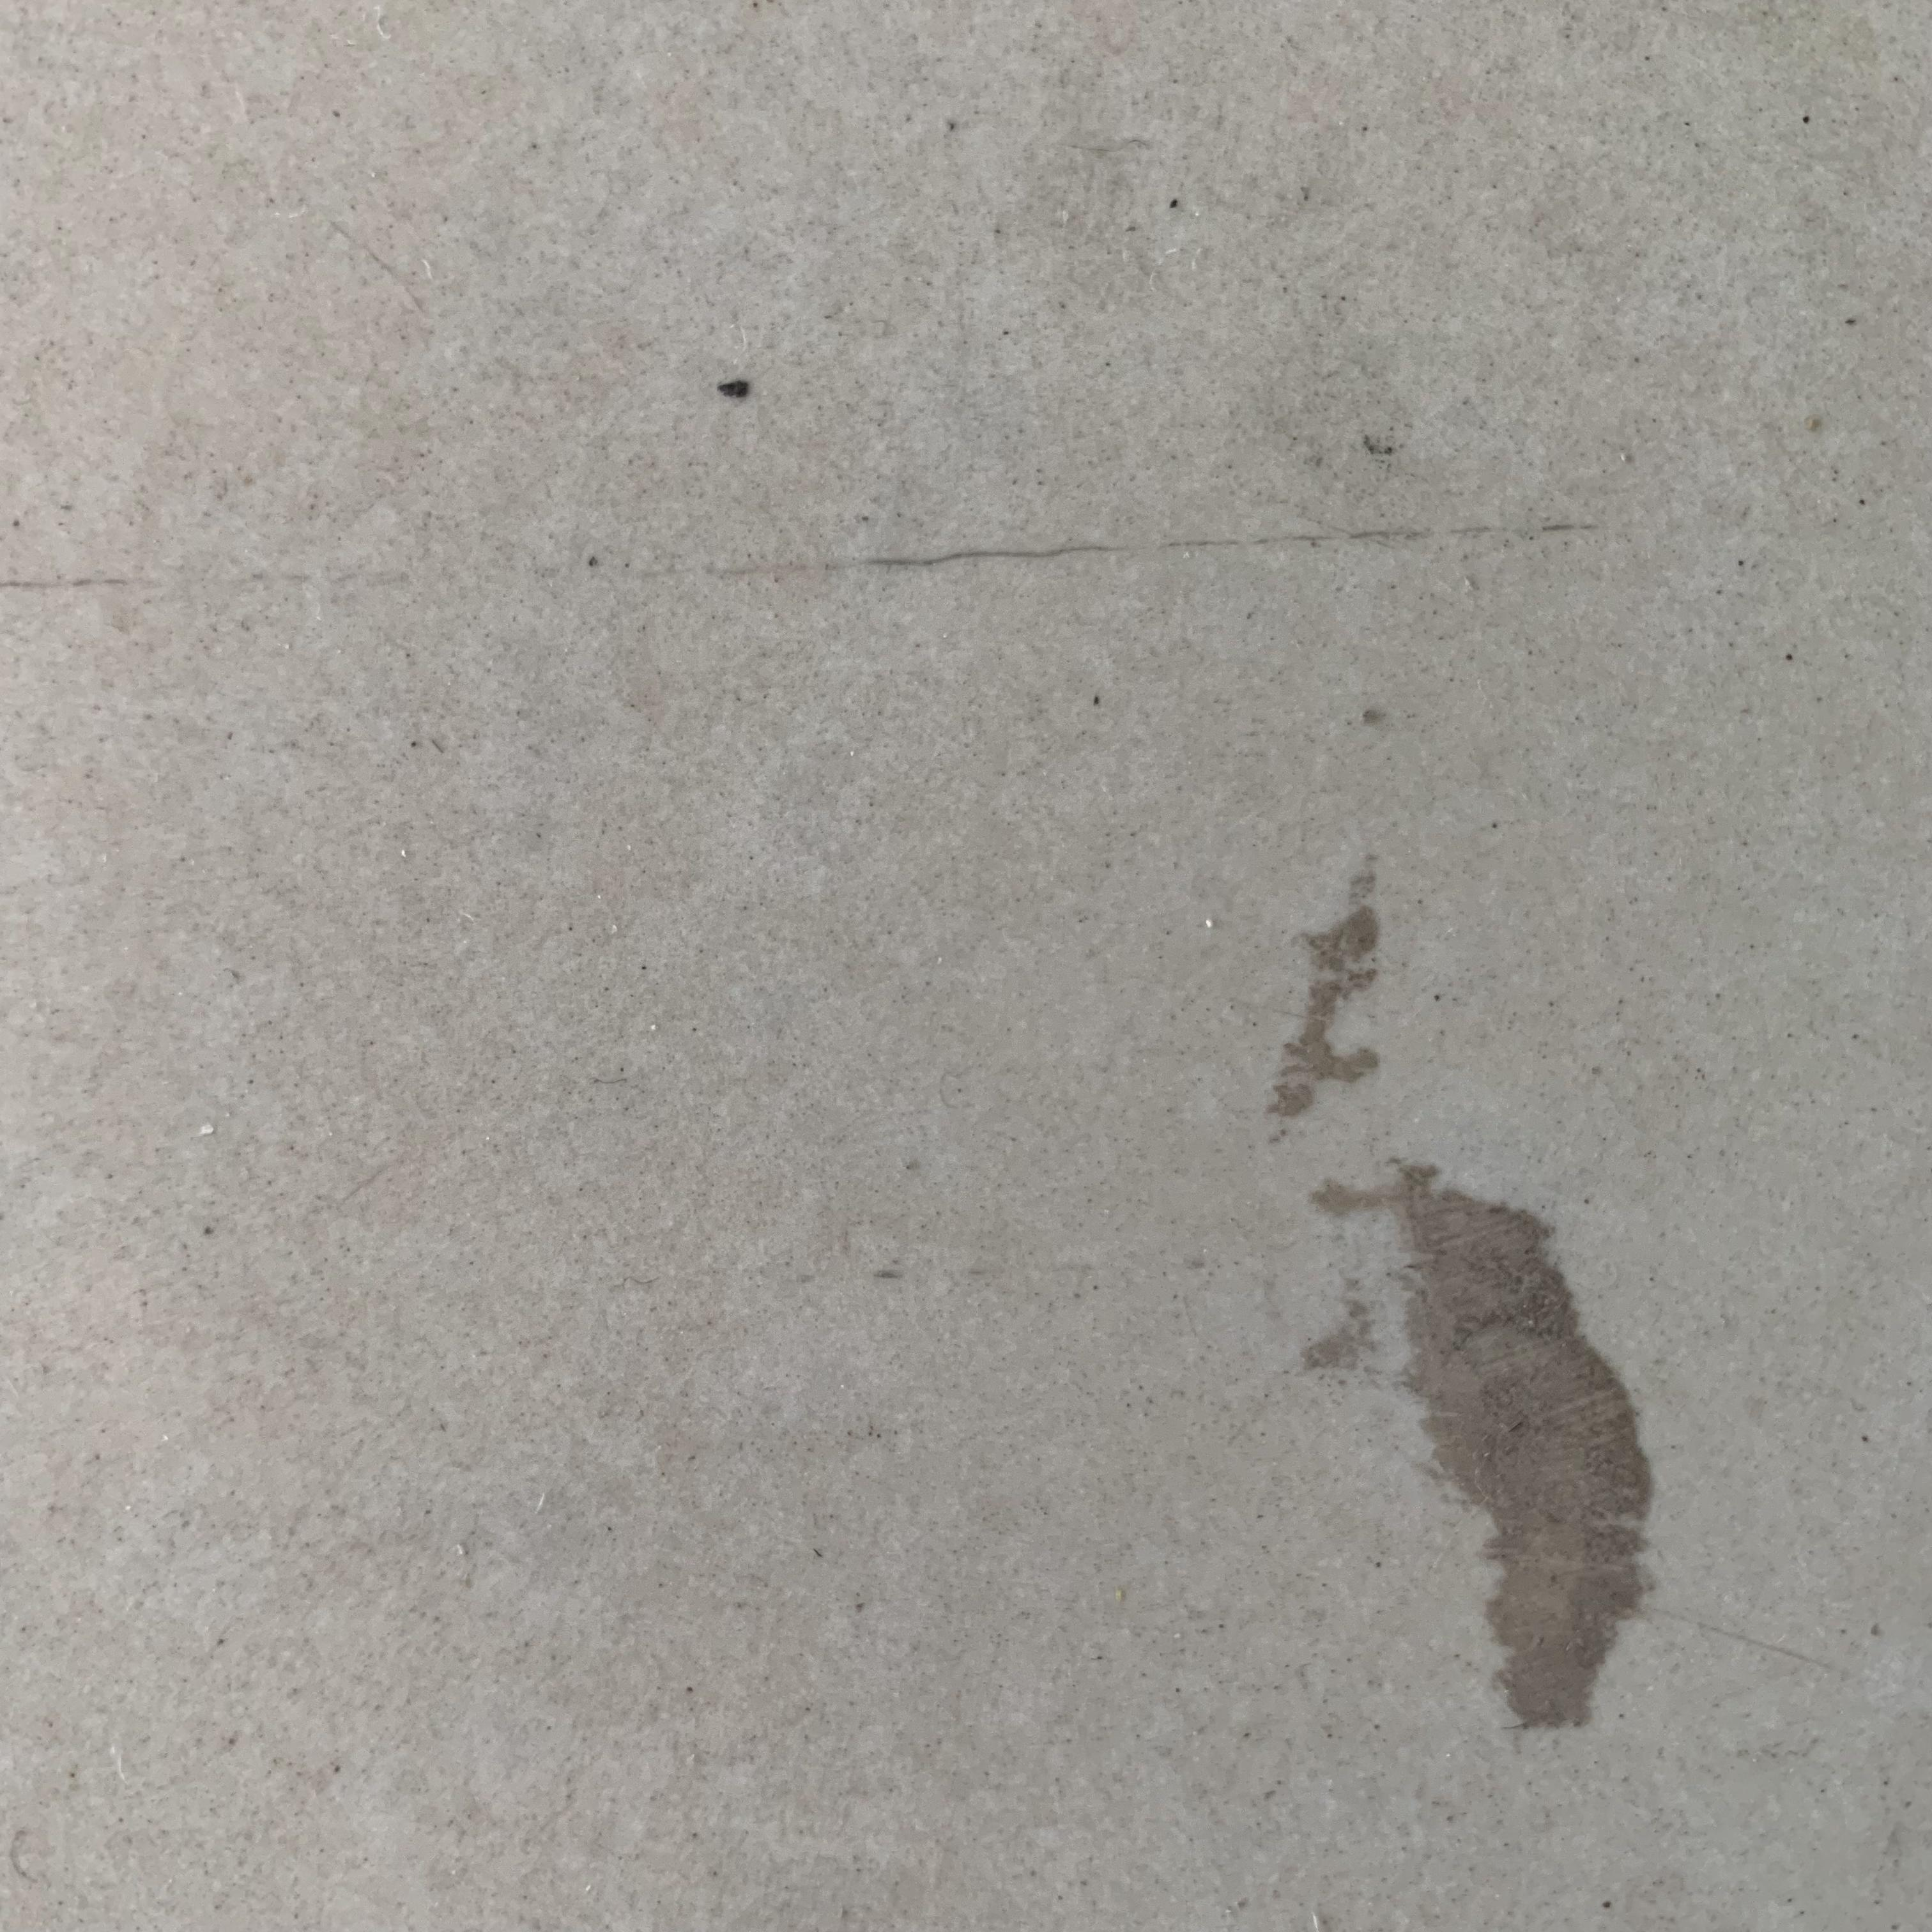grey spot: (1304, 1162, 1661, 1730), (1267, 874, 1382, 1141)
